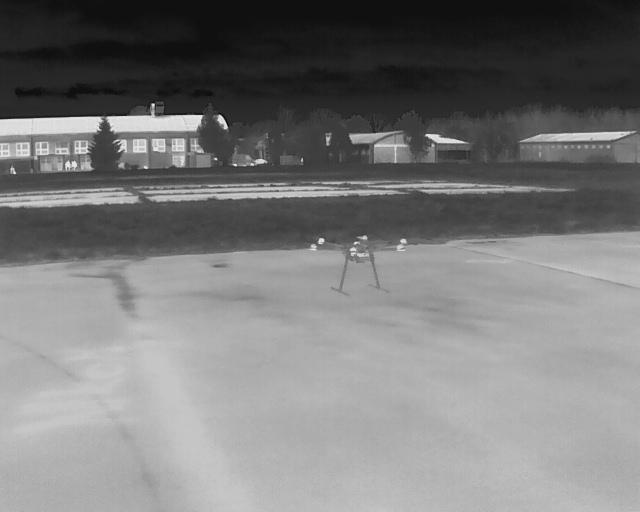drone: (298, 229, 413, 300)
